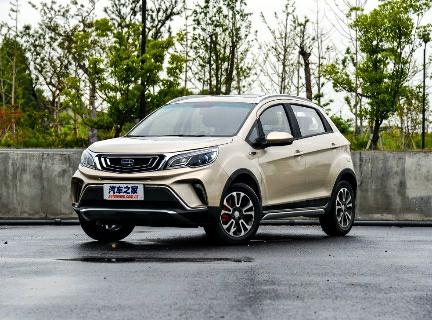car: (65, 88, 364, 256)
